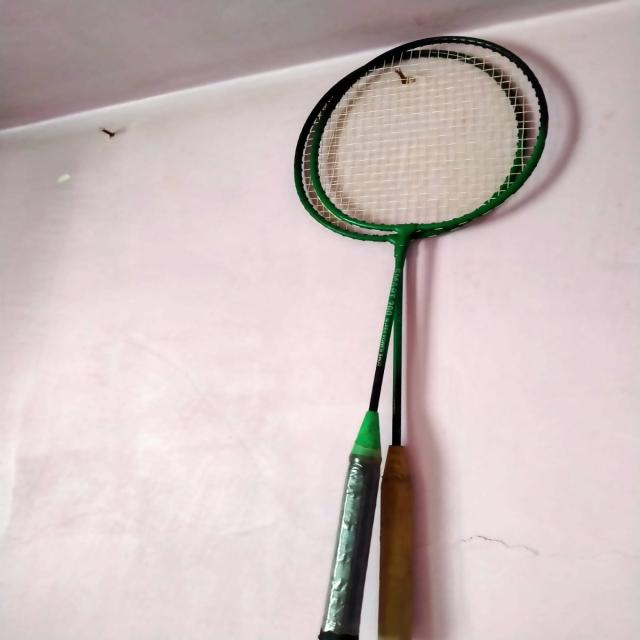Badminton: (291, 31, 563, 640)
